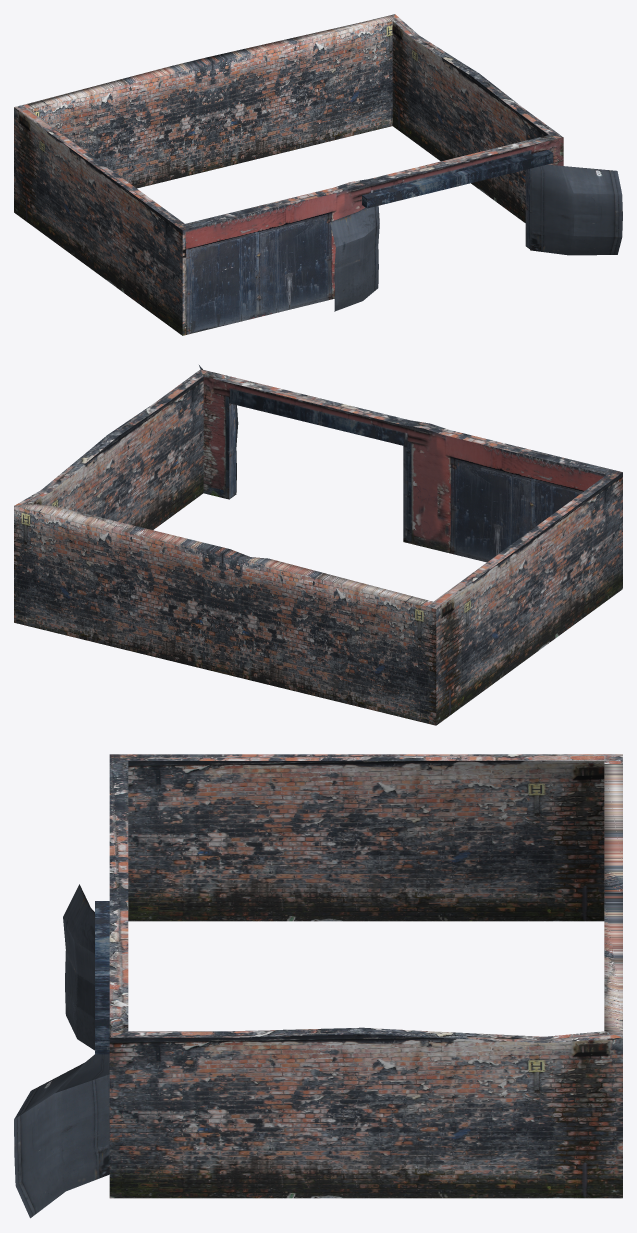
The model's file is building4.dae.
The picture shows the model from 3 angles, top to bottom: view 1: azimuth 30°, elevation 25°; view 2: azimuth 150°, elevation 25°; view 3: azimuth 270°, elevation 25°; orthographic projection. The views are drawn at different scales.
Visible parts, largest first — view 1: meshU3D; view 2: meshU3D; view 3: meshU3D.
Boxes of the visible parts, <box> form: meshU3D: <box>14,14,622,335</box>; meshU3D: <box>14,365,622,725</box>; meshU3D: <box>14,754,622,1218</box>.
Bounding box in the file's own units: 460 × 116 × 389.
Materials: 1 (1 with a texture image).
